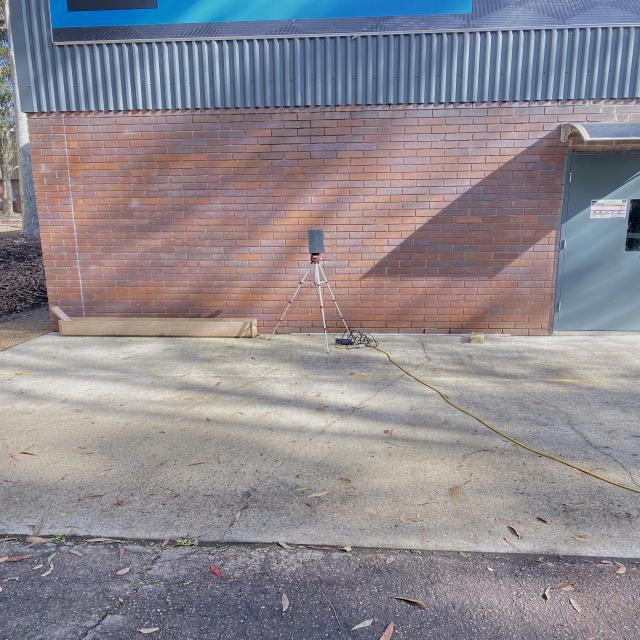matrix: (307, 230, 325, 253)
